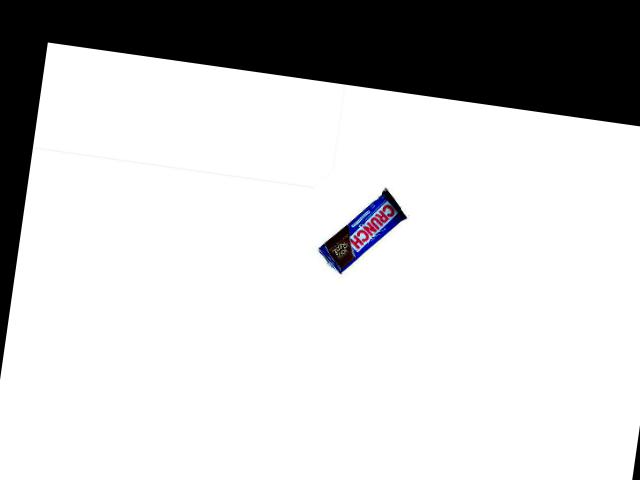chocolate: (313, 178, 411, 284)
